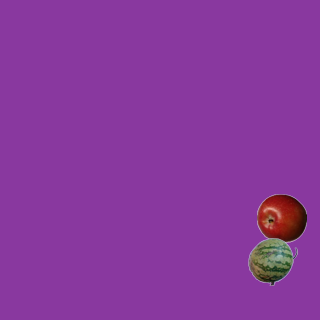Apple Braeburn: (256, 193, 306, 243)
Watermelon: (247, 236, 297, 286)
